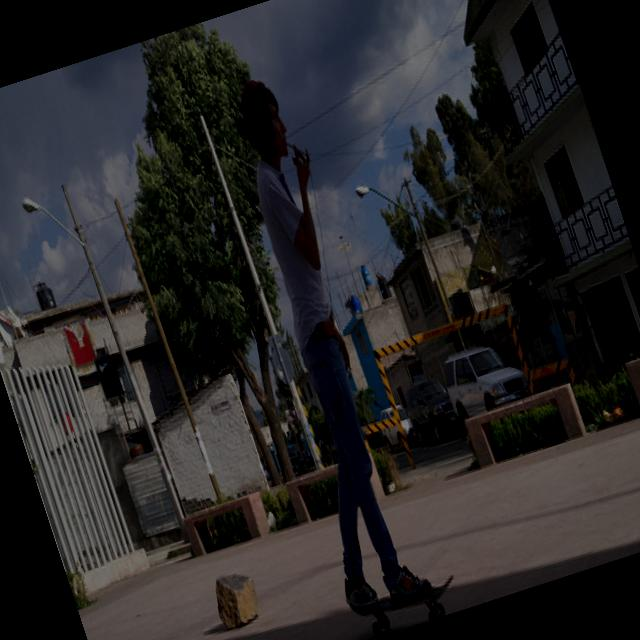Vehicle: (436, 334, 537, 436), (400, 372, 468, 452), (376, 402, 420, 454)
